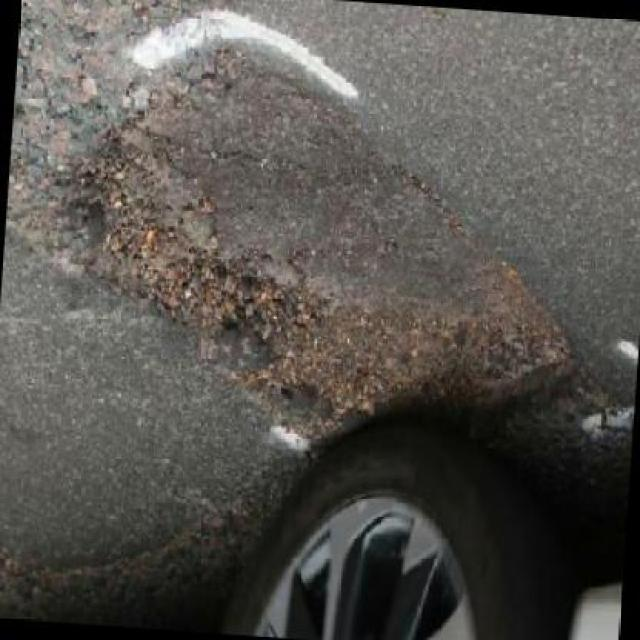pothole: (71, 103, 595, 462)
